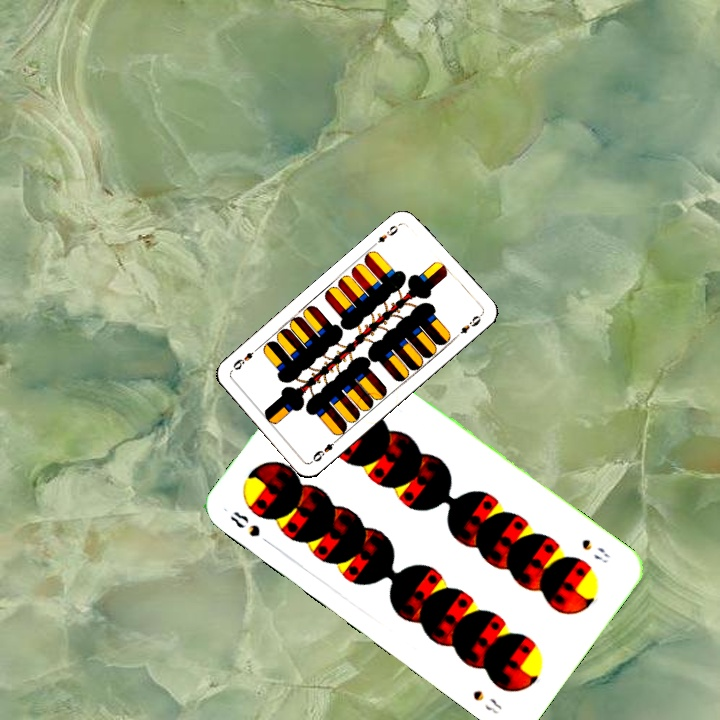E9: (370, 219, 404, 249), (309, 434, 341, 464)
S8: (226, 507, 275, 549), (578, 534, 613, 566)
